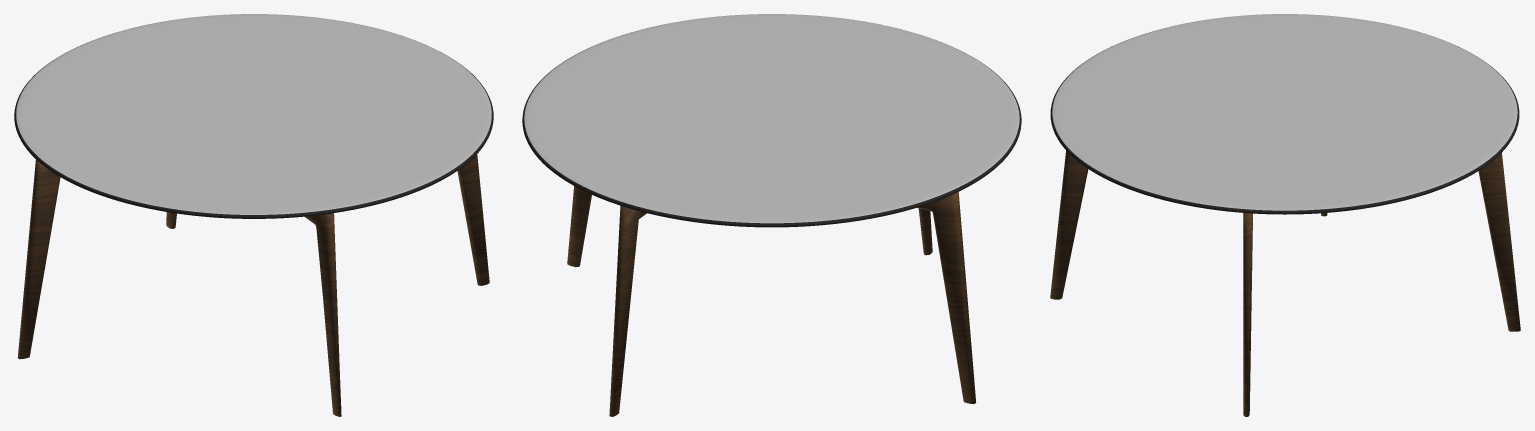
File: round_glass_table.glb
3 views of the same model, side by side, from view 1: azimuth 30°, elevation 25°; view 2: azimuth 150°, elevation 25°; view 3: azimuth 270°, elevation 25° (orthographic). The views are drawn at different scales.
Parts seen in each view (by area): view 1: Glass, Legs; view 2: Glass, Legs; view 3: Glass, Legs.
Part boxes in pixels (x1,y1,x2,y2): Glass: (14, 14, 493, 218); Legs: (17, 154, 489, 416); Glass: (522, 14, 1021, 227); Legs: (567, 186, 976, 416); Glass: (1050, 14, 1519, 214); Legs: (1050, 150, 1520, 416).
Size of the model in its own units: 12.33 by 5.65 by 11.92.
4 materials, 4 textured.
